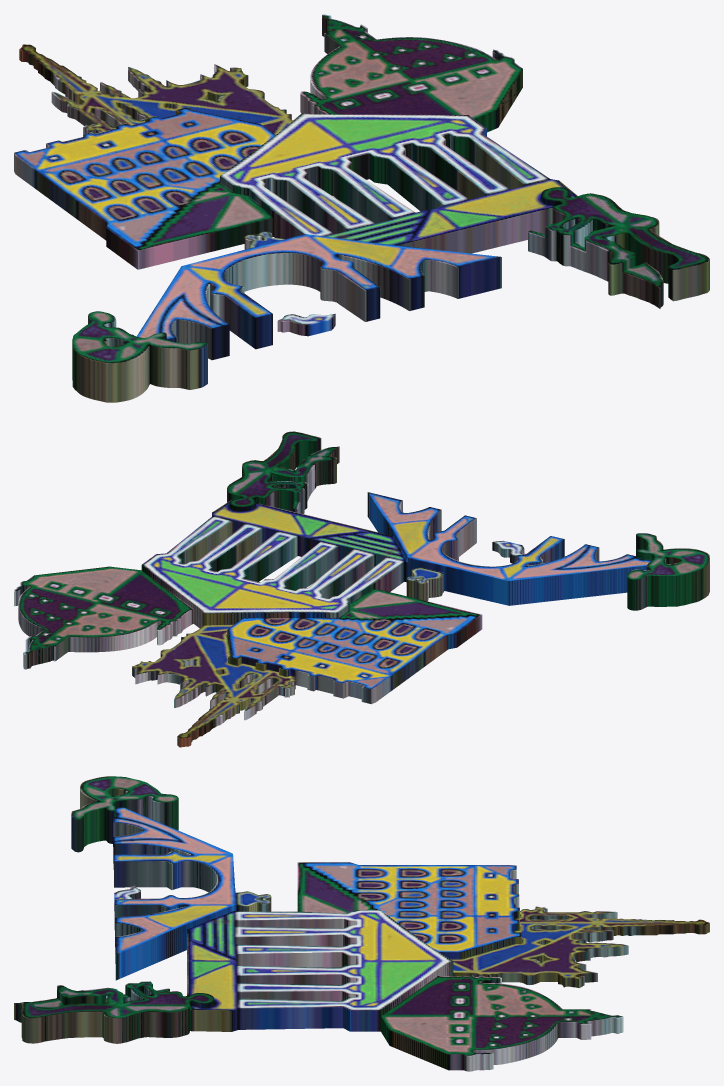
Rendered from muro del agua 3.dae.
The picture shows the model from 3 angles, top to bottom: view 1: azimuth 30°, elevation 25°; view 2: azimuth 150°, elevation 25°; view 3: azimuth 270°, elevation 25°; orthographic projection. The views are drawn at different scales.
Visible parts, largest first — view 1: SketchUp (×7); view 2: SketchUp (×7); view 3: SketchUp (×7).
Part boxes in pixels (bbox=[...]): SketchUp (×7): bbox=[14, 14, 709, 402]; SketchUp (×7): bbox=[14, 431, 709, 747]; SketchUp (×7): bbox=[15, 776, 709, 1071].
Size of the model in its own units: 43.63 by 48.8 by 2.5.
